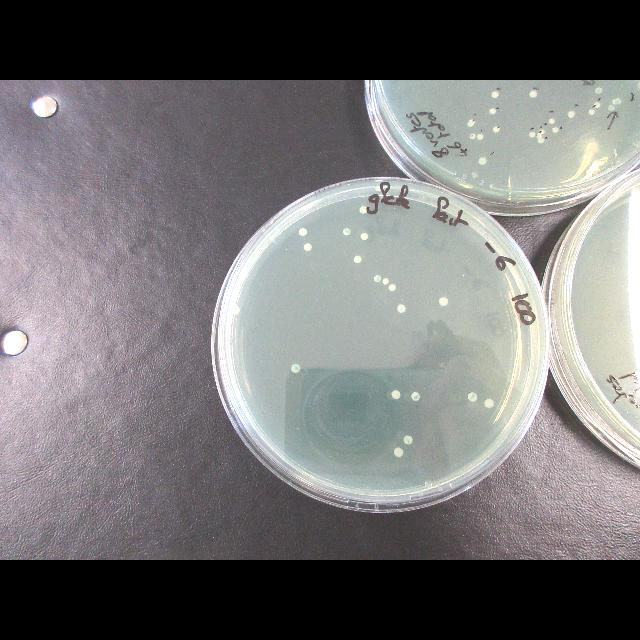colony: (536, 130, 545, 144), (394, 448, 404, 458), (291, 364, 301, 374), (391, 390, 401, 400), (468, 392, 478, 402), (439, 296, 449, 306), (411, 391, 420, 401), (484, 399, 494, 408), (592, 100, 601, 109), (404, 435, 412, 445), (611, 98, 622, 105), (232, 306, 240, 315), (299, 228, 308, 236), (359, 206, 368, 214), (360, 232, 369, 240), (354, 255, 362, 264), (491, 90, 499, 99), (529, 90, 538, 98), (398, 304, 406, 312), (468, 119, 475, 128), (304, 244, 312, 251), (342, 228, 350, 235), (492, 125, 500, 132), (374, 275, 381, 282), (382, 278, 389, 285), (389, 284, 396, 291), (479, 158, 486, 165), (489, 108, 496, 115), (529, 131, 536, 138), (568, 111, 575, 118), (608, 104, 615, 111), (476, 134, 484, 140), (595, 88, 602, 94), (549, 118, 555, 124), (589, 109, 595, 115), (470, 134, 476, 139), (552, 128, 559, 132)
